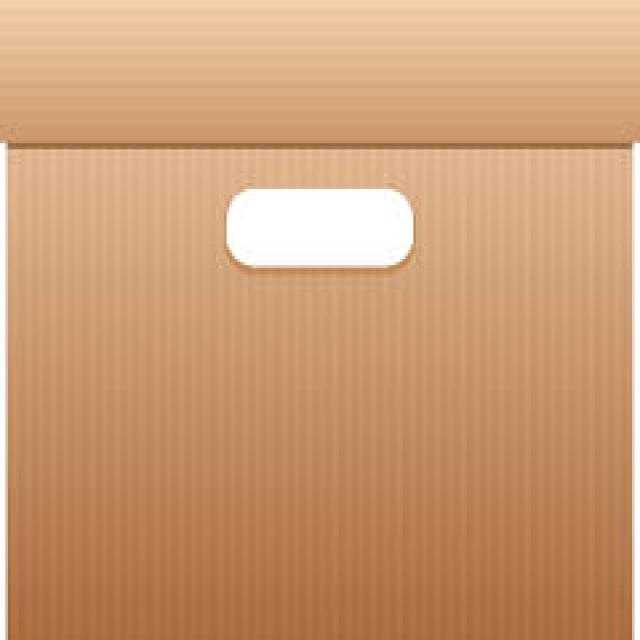cardboard: (3, 143, 637, 637), (0, 0, 637, 140)
